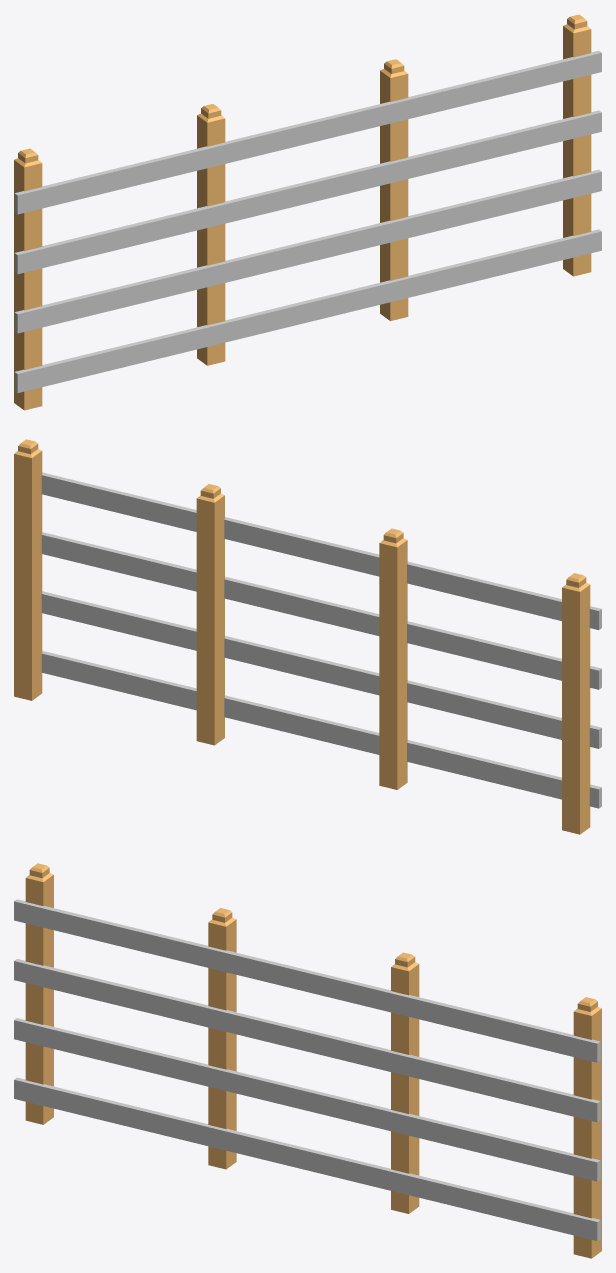
File: Fence_Post_baked_Normal_Map.fbx
3 views of the same model, one above another, from view 1: azimuth 30°, elevation 25°; view 2: azimuth 150°, elevation 25°; view 3: azimuth 330°, elevation 25° (orthographic).
Visible parts, largest first — view 1: Fence Post Baked; view 2: Fence Post Baked; view 3: Fence Post Baked.
Boxes of the visible parts, x1,y1,x2,y2 form: Fence Post Baked: [14, 14, 601, 410]; Fence Post Baked: [14, 439, 601, 834]; Fence Post Baked: [14, 863, 601, 1258].
Bounding box in the file's own units: 1129 × 467 × 42.64.
